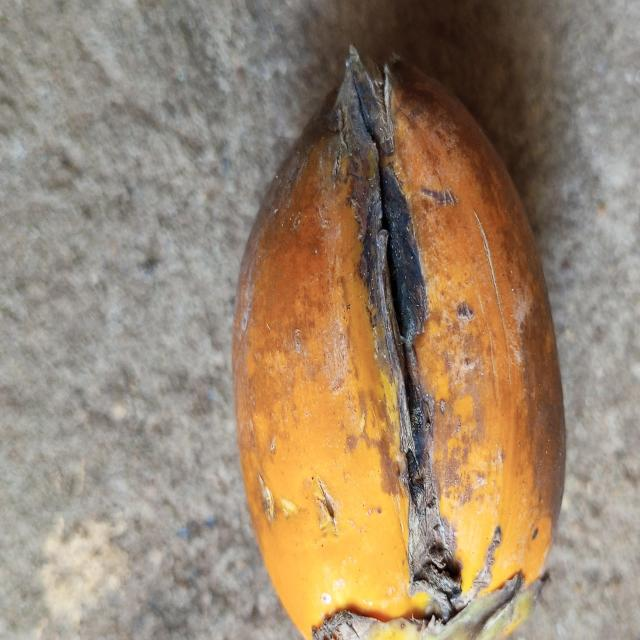damaged: (230, 49, 567, 640)
